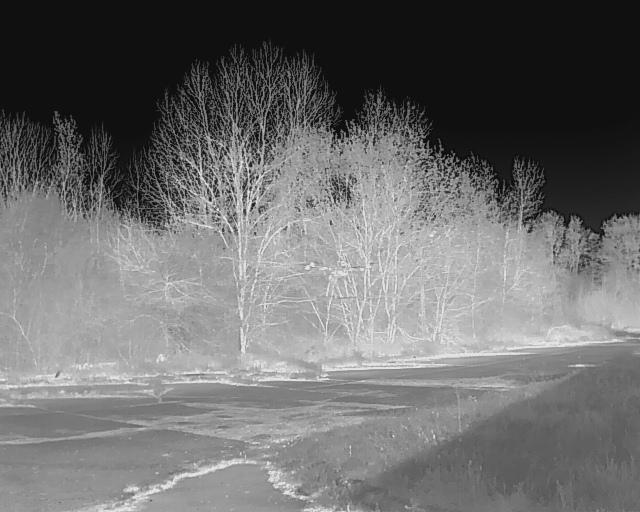drone: (300, 259, 379, 311)
